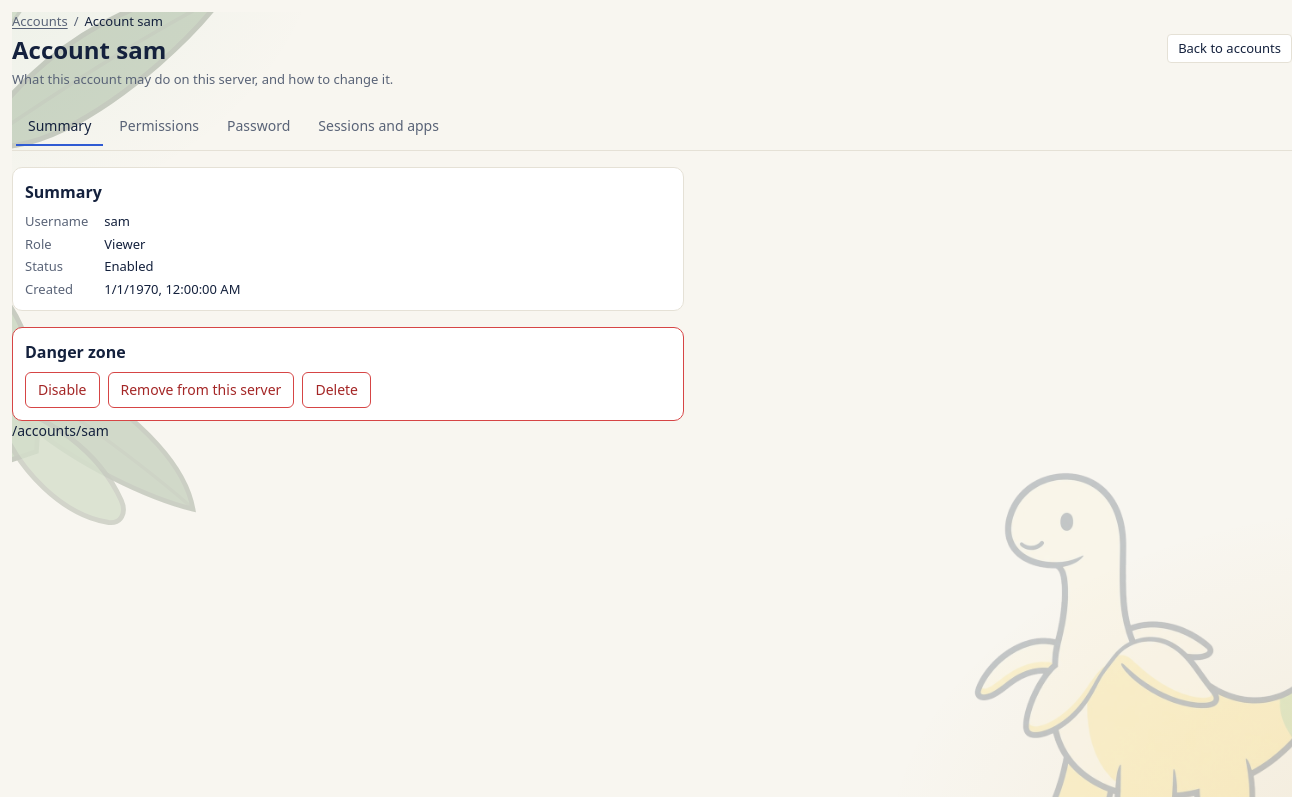
Test: AccountEditPage › keeps the draft when a sibling tab reloads the accounts
Expected: the text "sam" is shown, [104,212,130,230]
Click the tab "Permissions" at (159, 127), box [107,108,211,146]
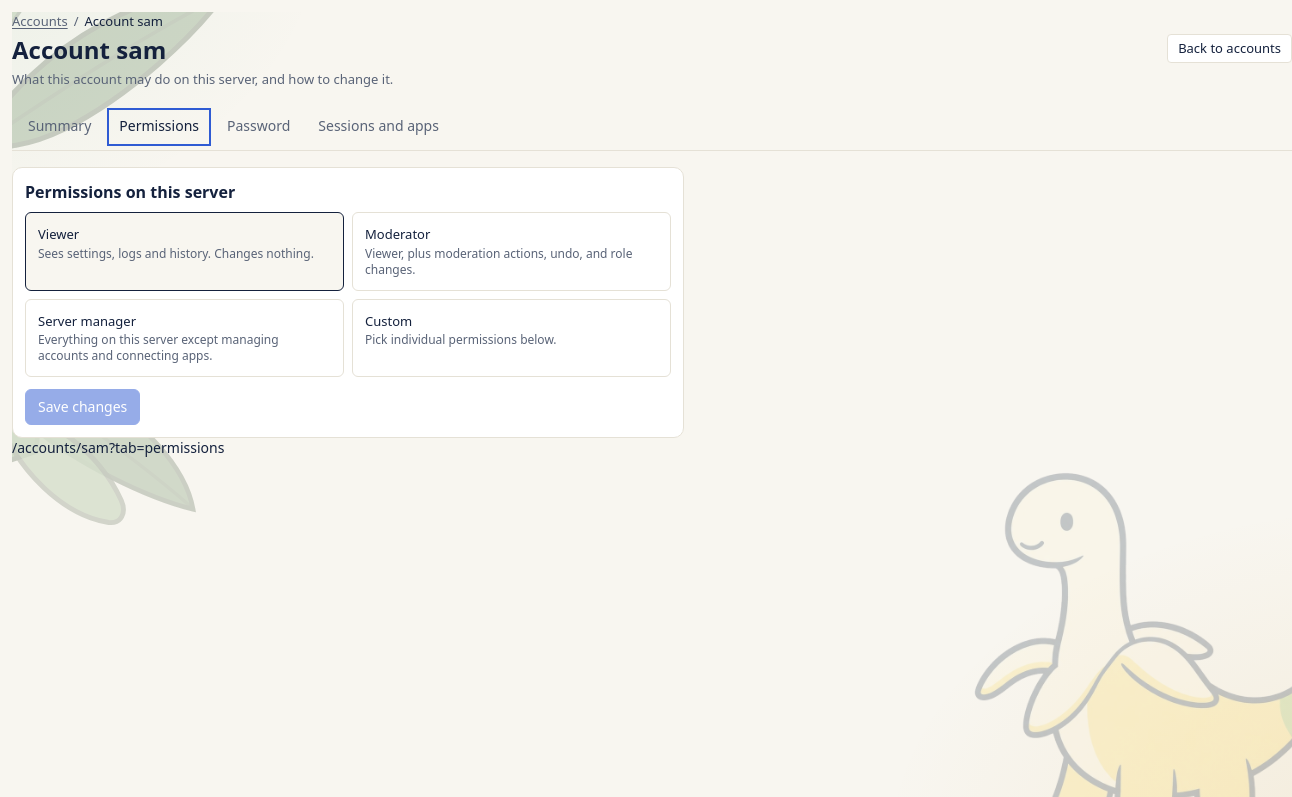
Click the radio button labelled "Custom Pick individual permissions below." at (512, 338), box [352,299,671,377]
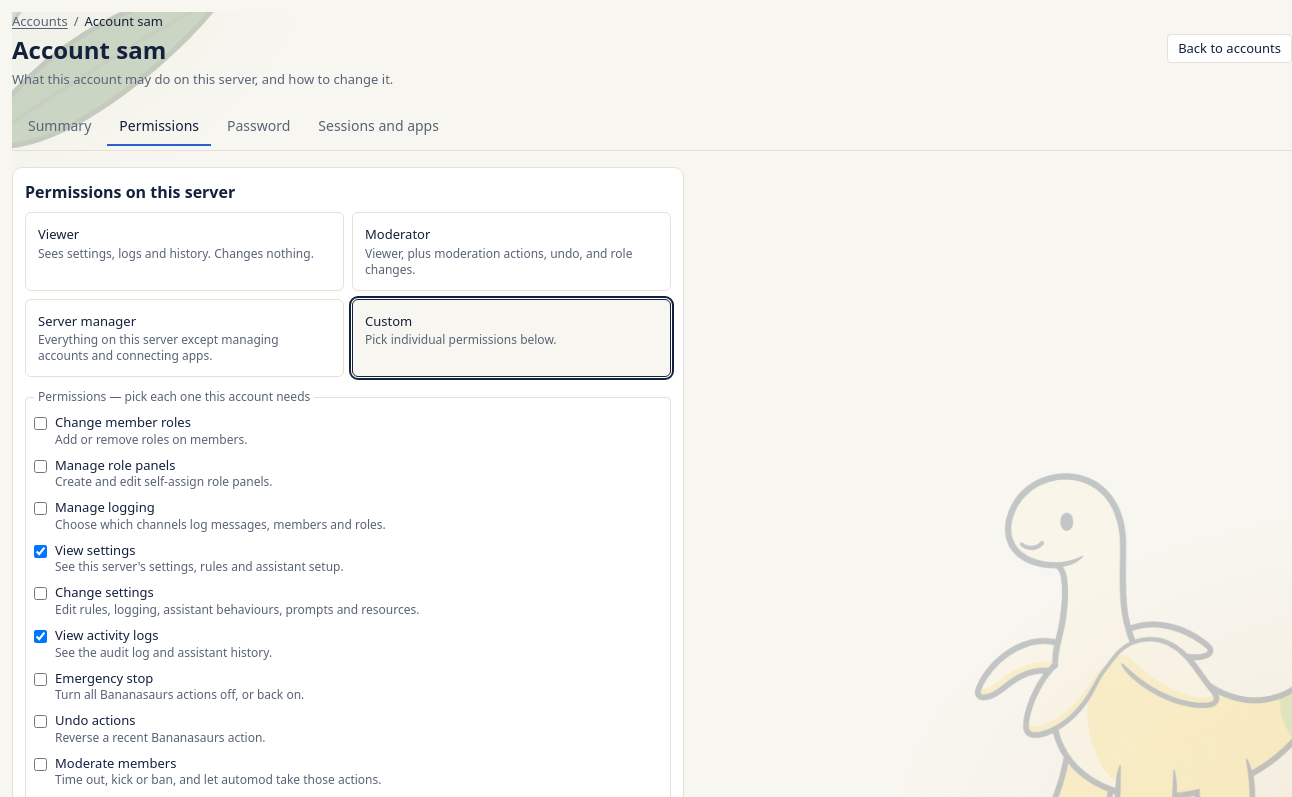
Click the checkbox labelled "Moderate members" at (40, 764), box [34,758,47,771]
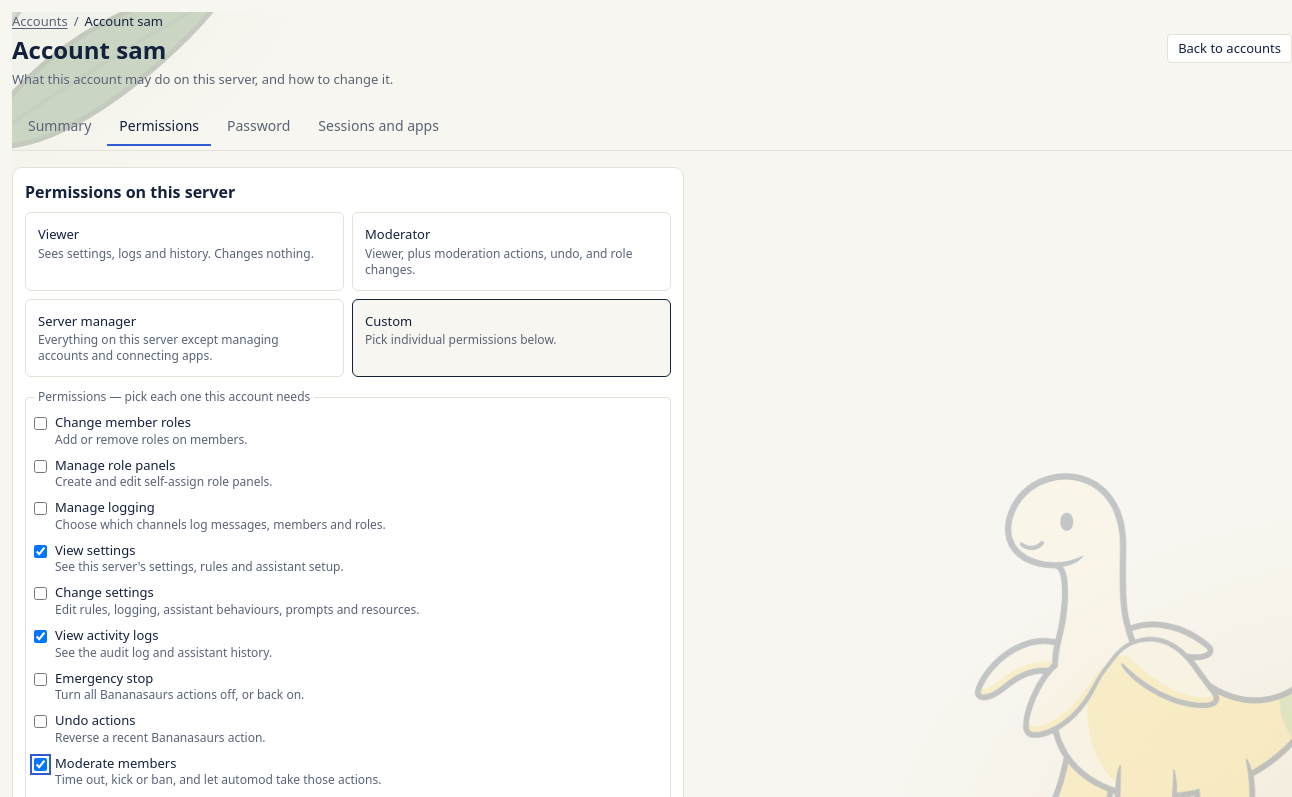
Click the tab "Sessions and apps" at (379, 127), box [306,108,451,146]
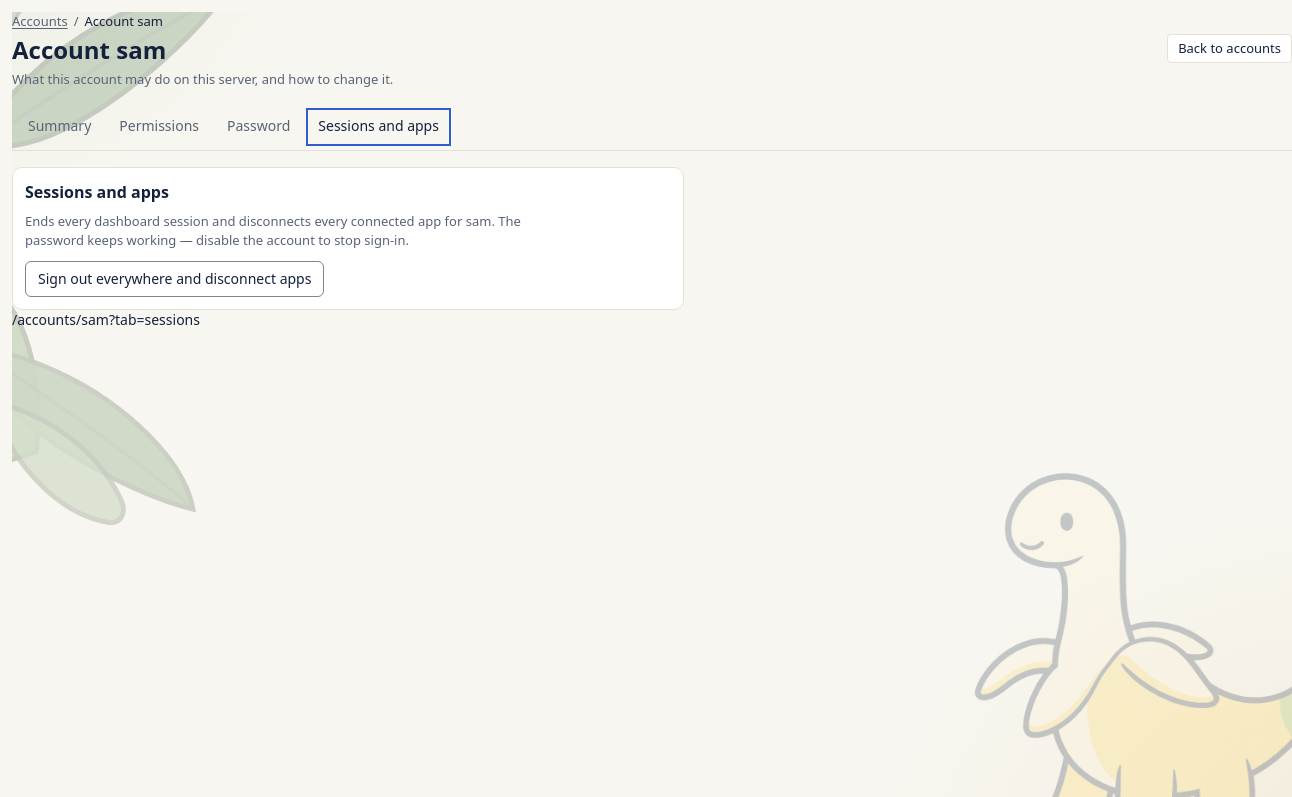
Click the button "Sign out everywhere and disconnect apps" at (175, 279), box [25,261,324,297]
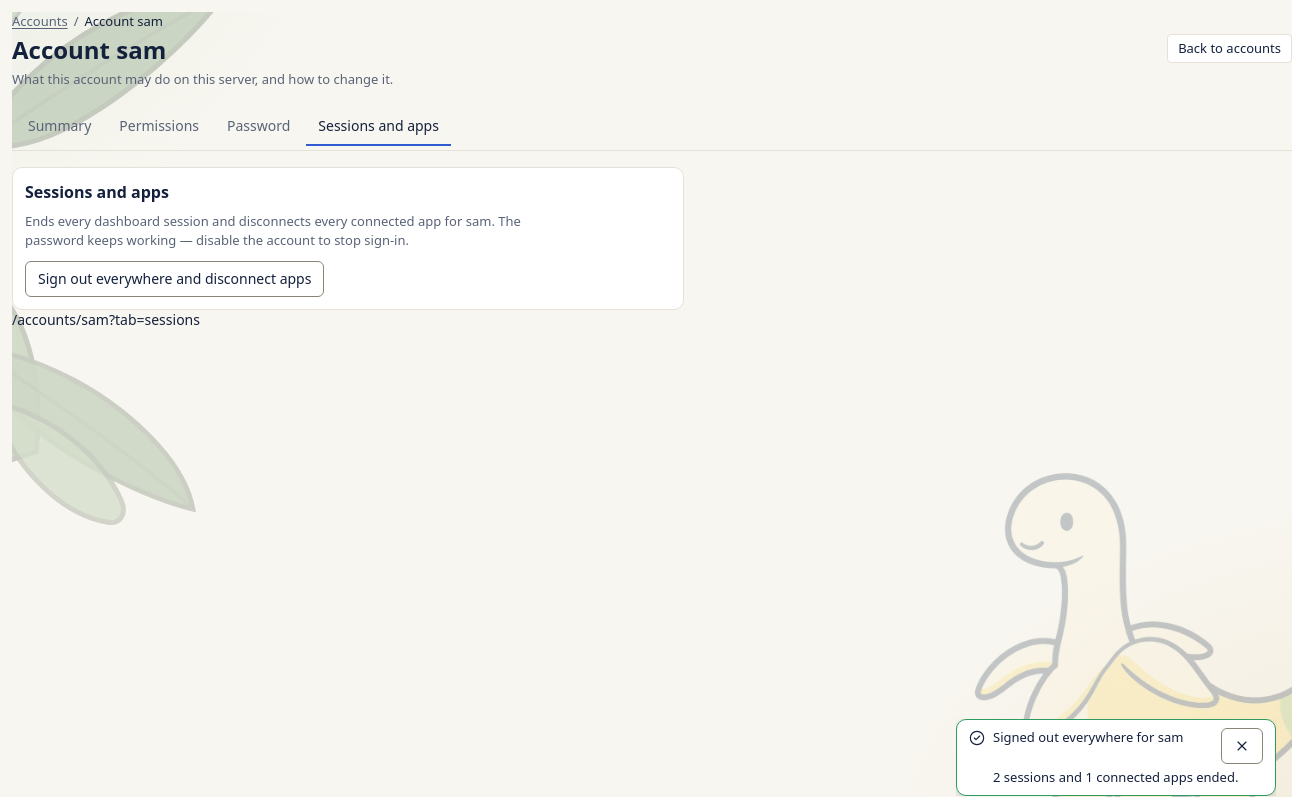
Click the tab "Permissions" at (159, 127), box [107,108,211,146]
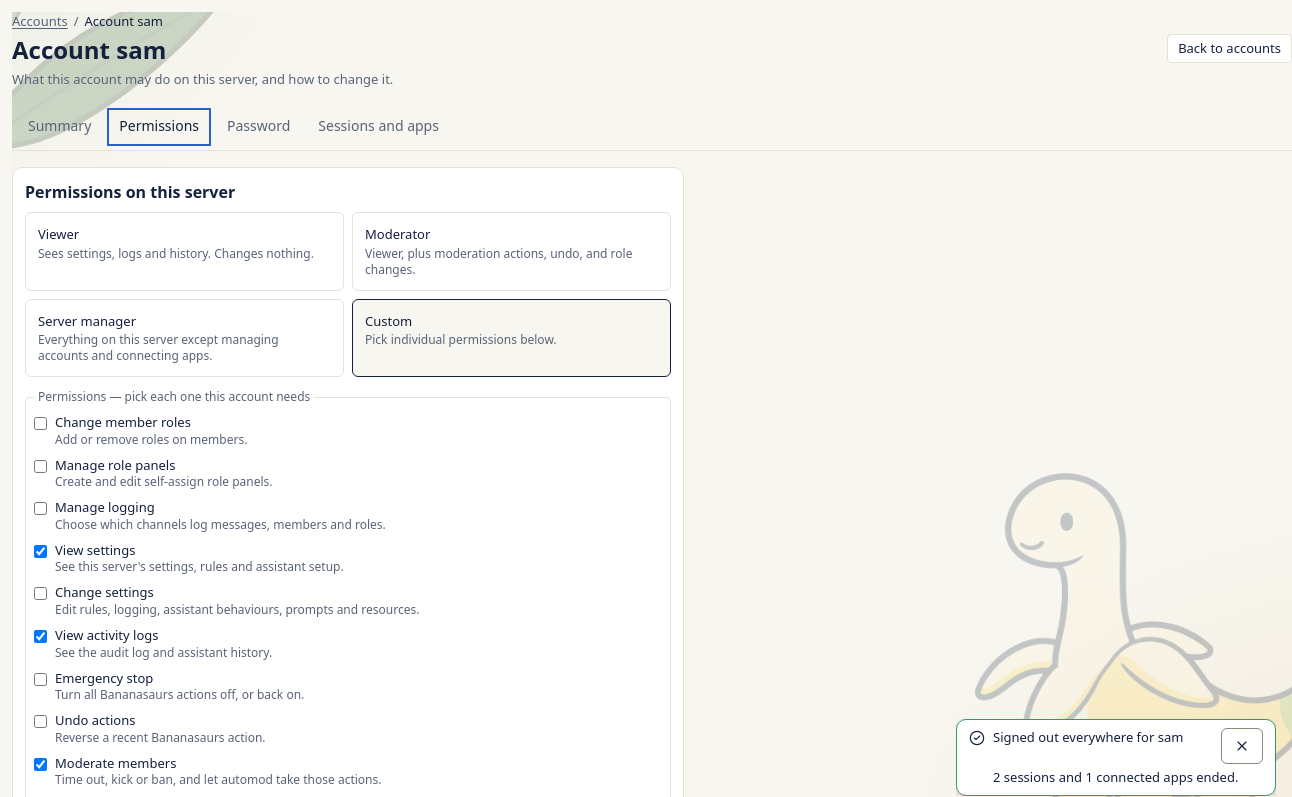
Now the checkbox labelled "Moderate members" is checked, box [34,758,47,771]
